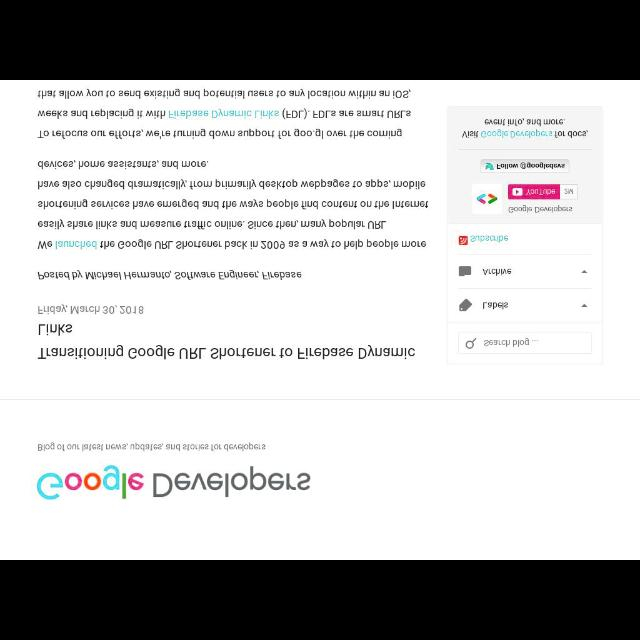icon: (460, 298, 472, 312), (458, 266, 472, 276), (465, 338, 477, 348), (582, 304, 586, 308), (582, 270, 586, 274)
image: (38, 465, 144, 499), (477, 193, 498, 204), (513, 188, 523, 196), (459, 236, 468, 244), (486, 162, 494, 170)
input: (458, 332, 592, 353)
spinner: (483, 302, 587, 310), (482, 268, 588, 274)
text: (37, 160, 430, 250), (37, 88, 411, 138), (37, 322, 415, 360), (152, 466, 312, 498), (37, 270, 301, 280), (462, 119, 588, 138), (38, 442, 266, 452), (37, 304, 143, 316), (497, 162, 565, 170), (509, 205, 573, 213), (484, 338, 538, 347), (469, 234, 508, 242), (482, 267, 512, 275), (526, 188, 556, 196), (484, 301, 508, 309), (564, 188, 574, 195)
textbutton: (481, 160, 569, 172), (508, 186, 578, 198)
